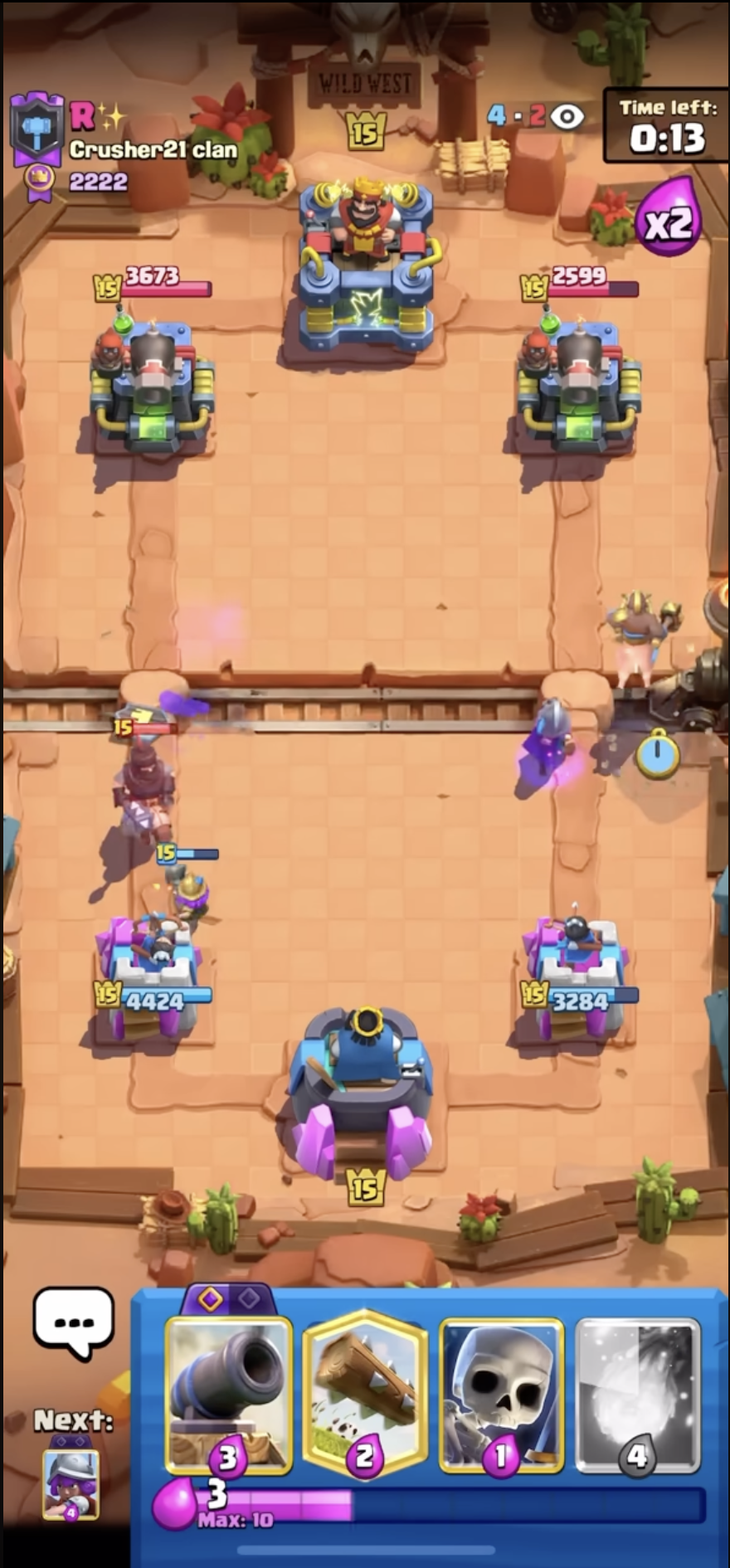evo_musketeer: (517, 683, 588, 787)
hog_rider: (606, 575, 684, 709)
musketeer: (152, 832, 223, 943)
